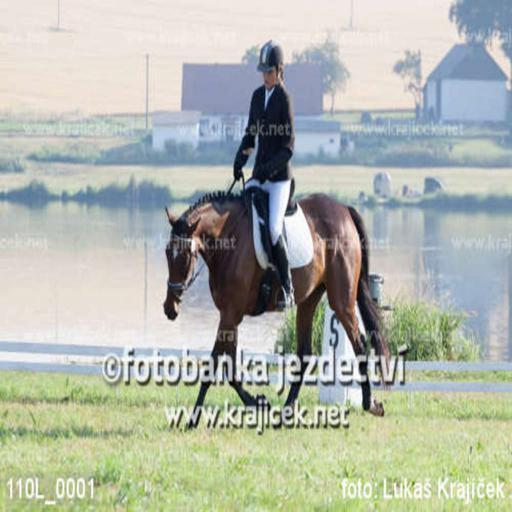horse: (162, 184, 392, 429)
